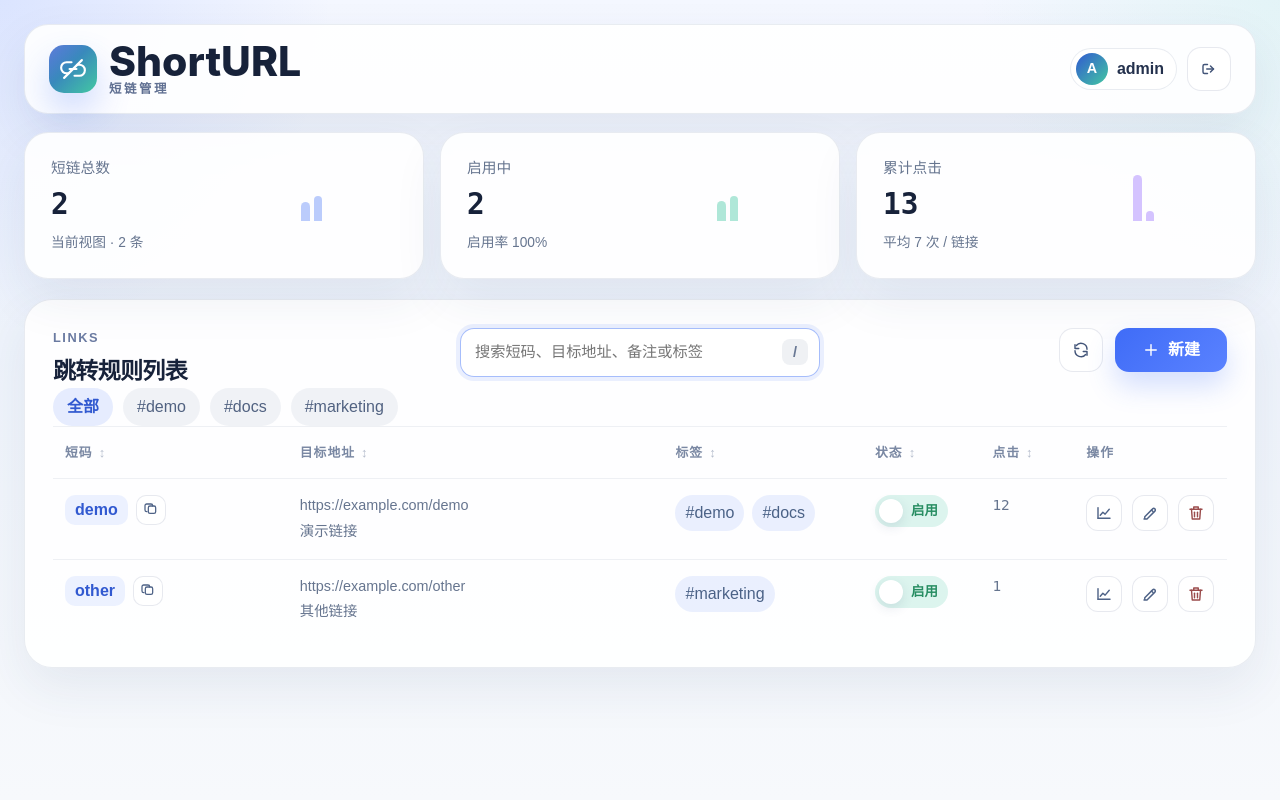
LinksPage › filters by tag when tag chip is clicked
Click the 1st button "#demo": click(161, 407) x1=123 y1=388 x2=200 y2=426
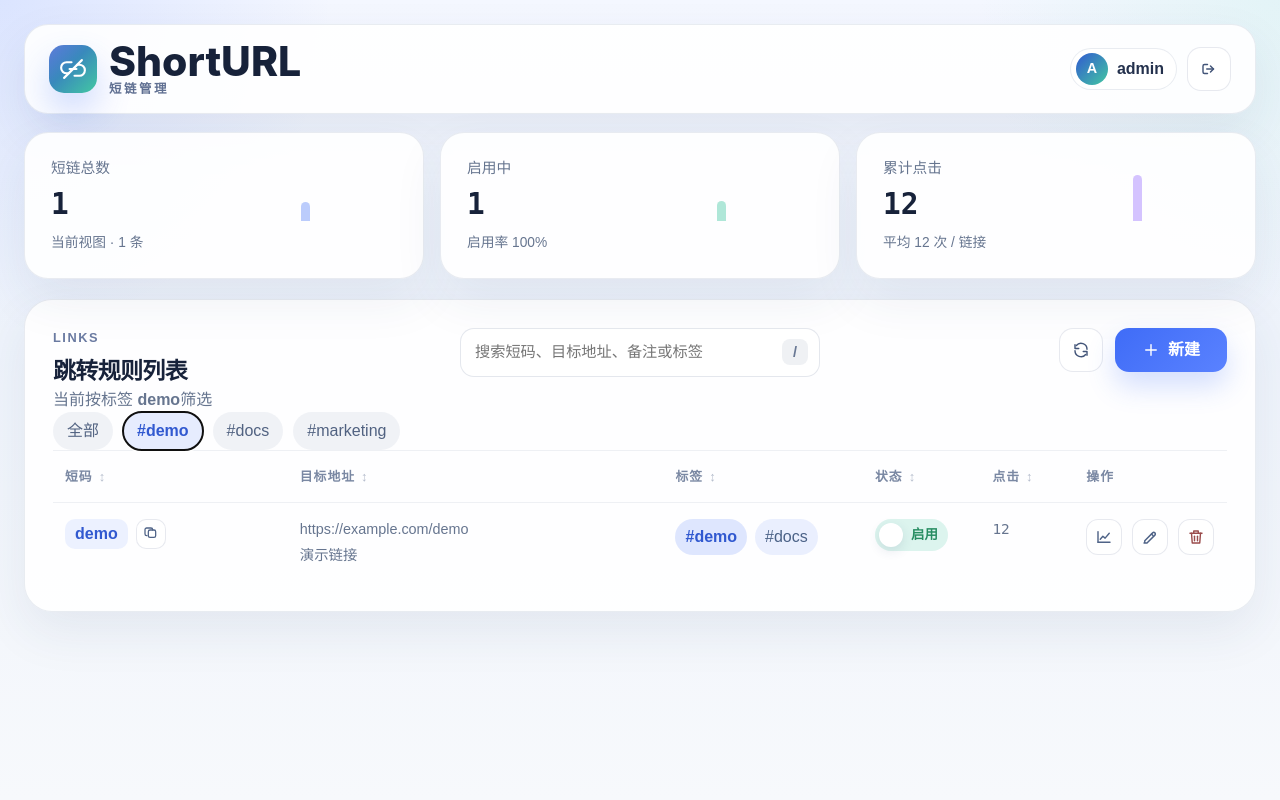
Expected: the link "demo" is shown, x1=65 y1=519 x2=128 y2=549
Expected: the link "other" is gone
